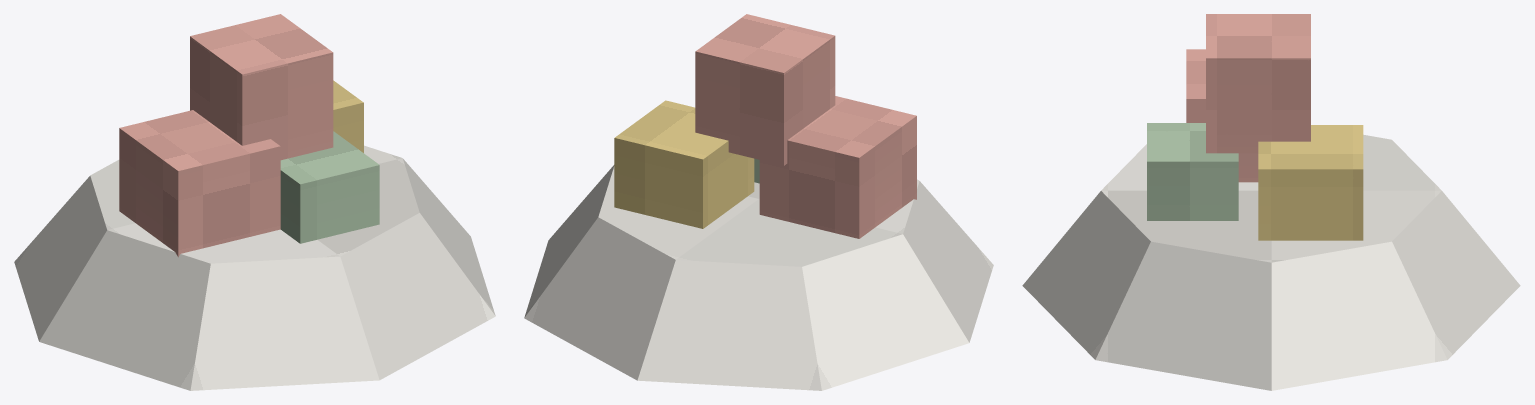
File: pixel-modern-apartments-fruit-bowl-728cde4c__29817.glb
3 renders of one model, left to right at view 1: azimuth 30°, elevation 25°; view 2: azimuth 150°, elevation 25°; view 3: azimuth 270°, elevation 25°, orthographic. The views are drawn at different scales.
Parts seen in each view (by area): view 1: fruit-bowl; view 2: fruit-bowl; view 3: fruit-bowl.
Part boxes in pixels (x1=…): fruit-bowl: x1=14, y1=14, x2=495, y2=390; fruit-bowl: x1=524, y1=14, x2=993, y2=390; fruit-bowl: x1=1022, y1=14, x2=1520, y2=390.
Size of the model in its own units: 0.38 by 0.21 by 0.38.
4 materials, 4 textured.
